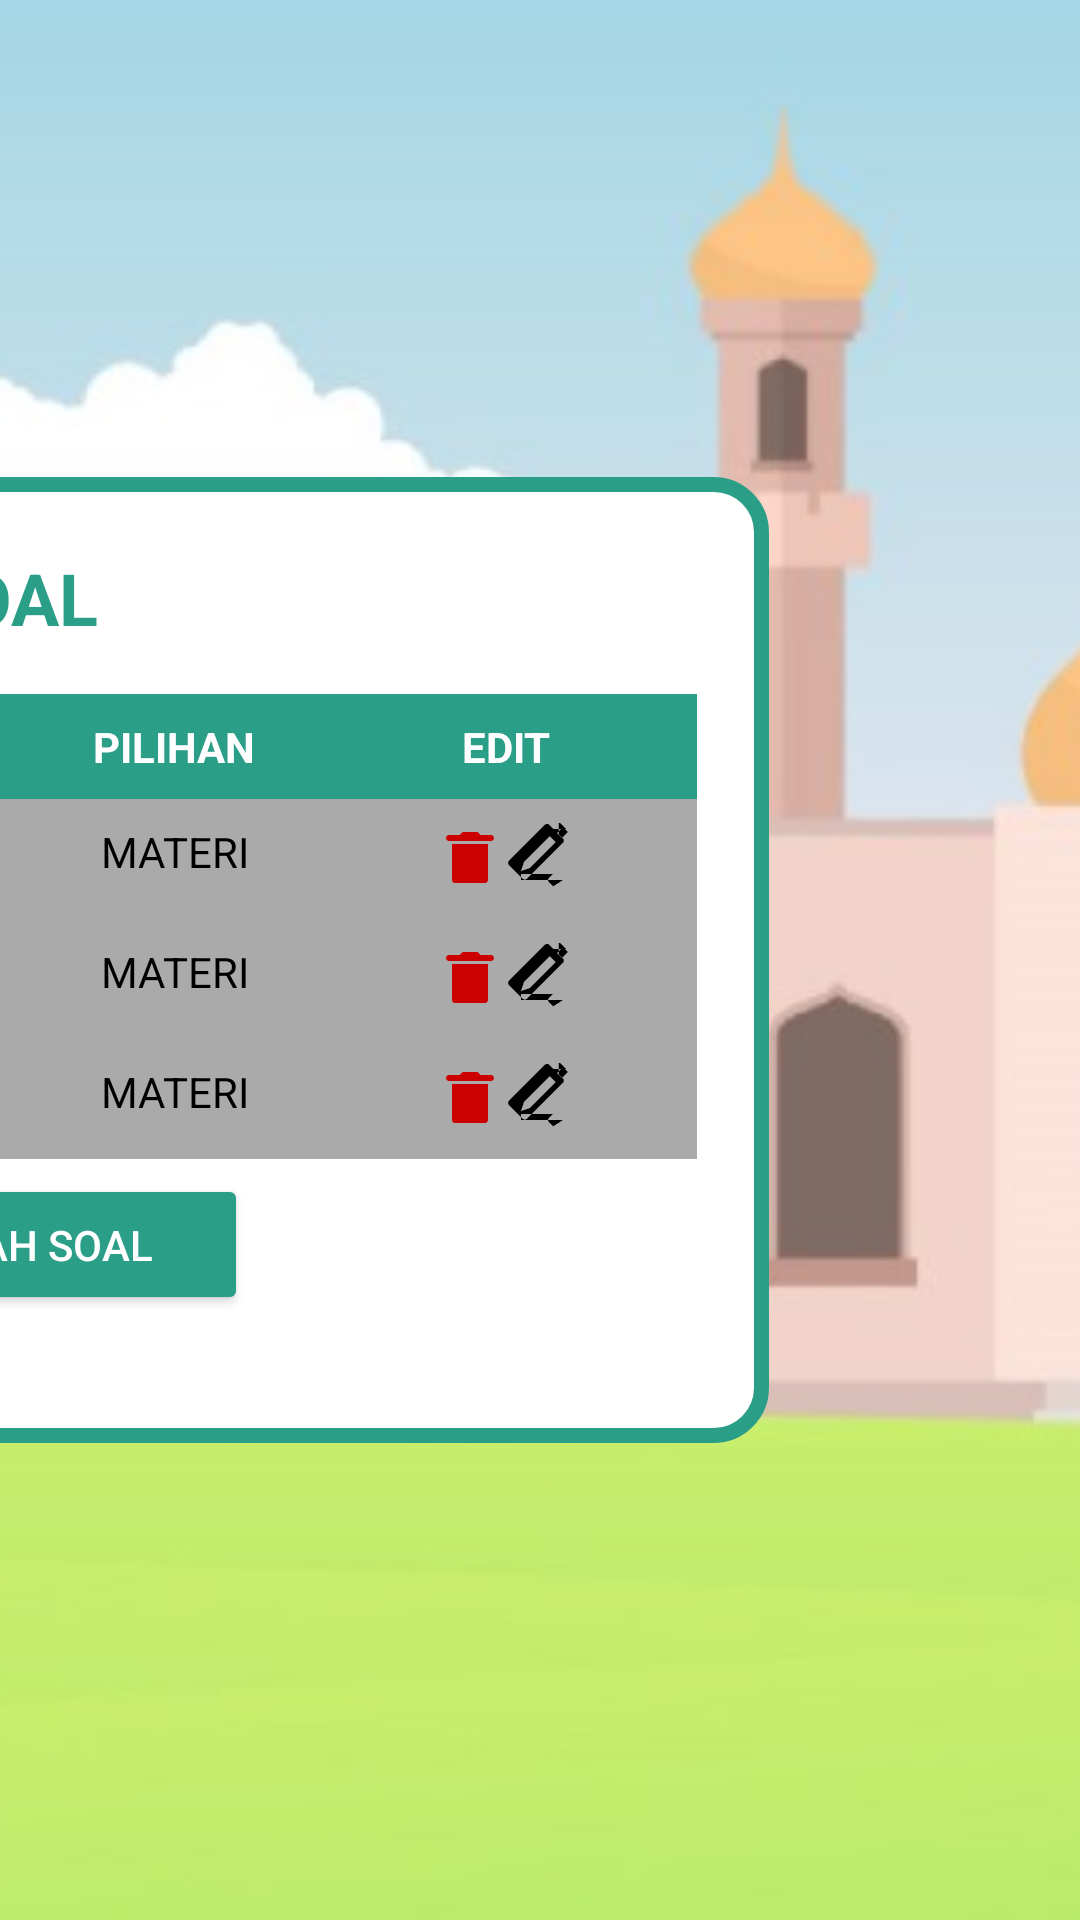

Point at icon controls on the screen. Image size 1080px x 1920px, points as [x,y].
Delete: [470,857], [470,977], [470,1097]
